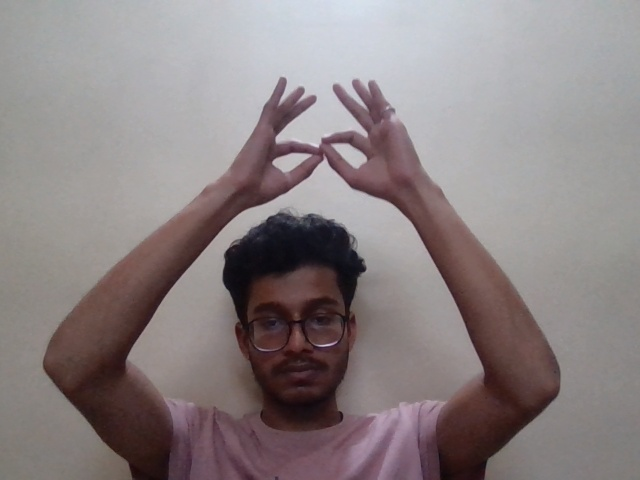nice: (217, 77, 444, 237)
